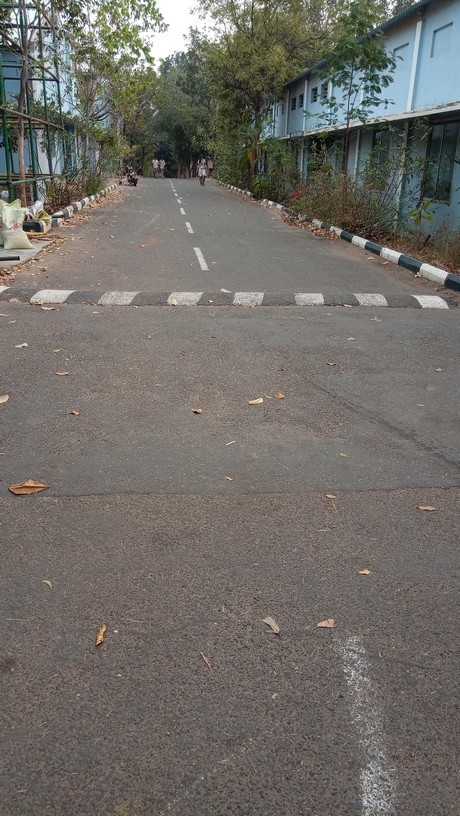bump: (1, 287, 459, 315)
